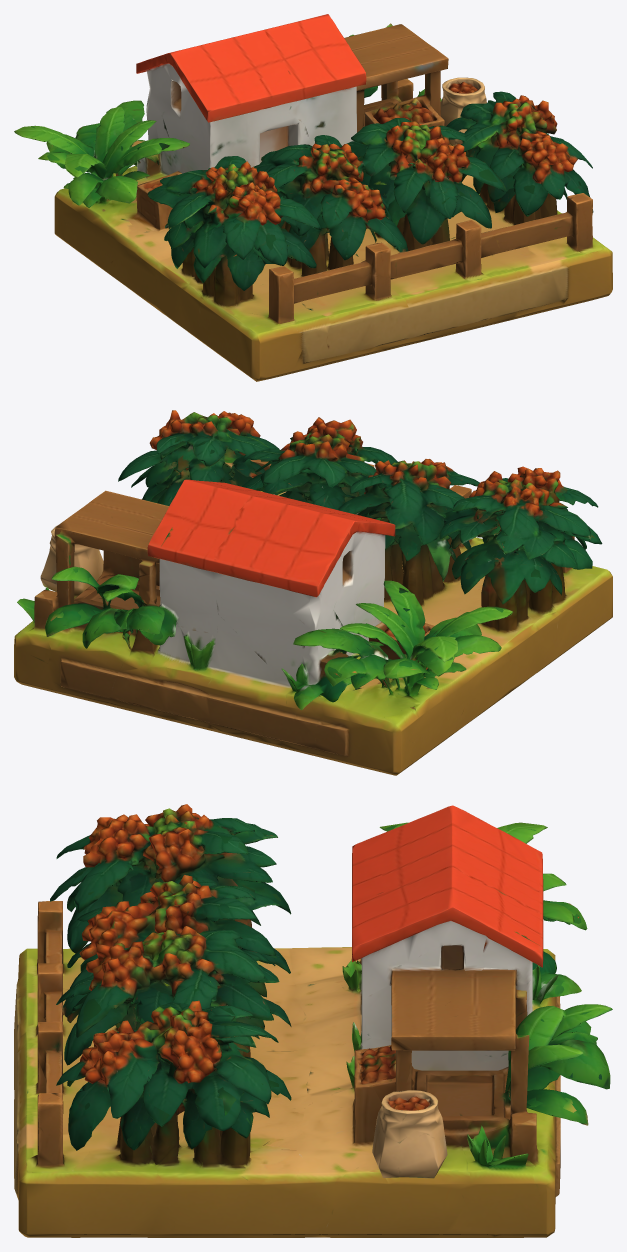
File: lite-before-leaf-fix.glb
The picture shows the model from 3 angles, top to bottom: view 1: azimuth 30°, elevation 25°; view 2: azimuth 150°, elevation 25°; view 3: azimuth 270°, elevation 25°; orthographic projection. The views are drawn at different scales.
Bounding box in the file's own units: 1.89 × 0.8251 × 1.76.
1 material, 1 textured.
